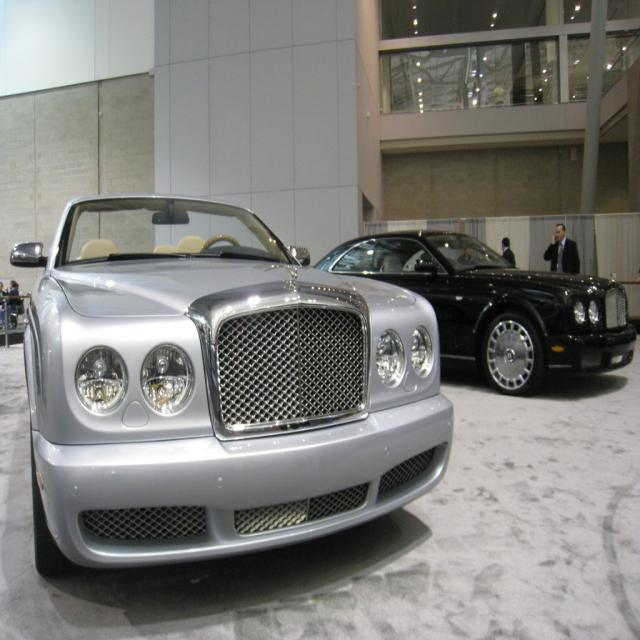Car: (9, 192, 455, 580), (311, 228, 636, 397)
